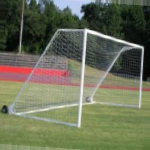goals: (11, 28, 144, 129)
